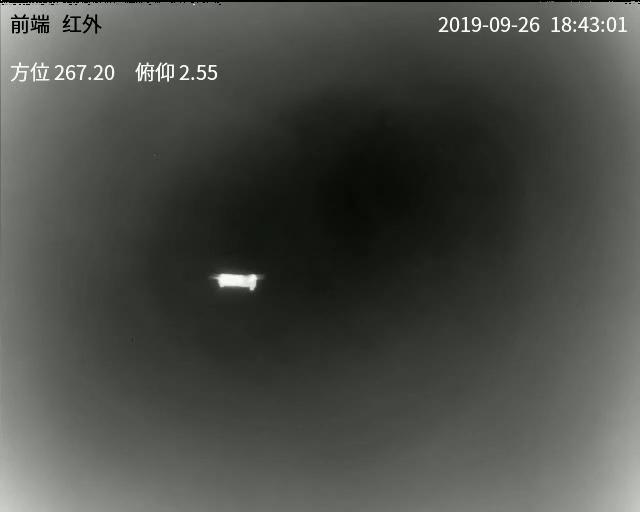uav: (201, 268, 265, 293)
